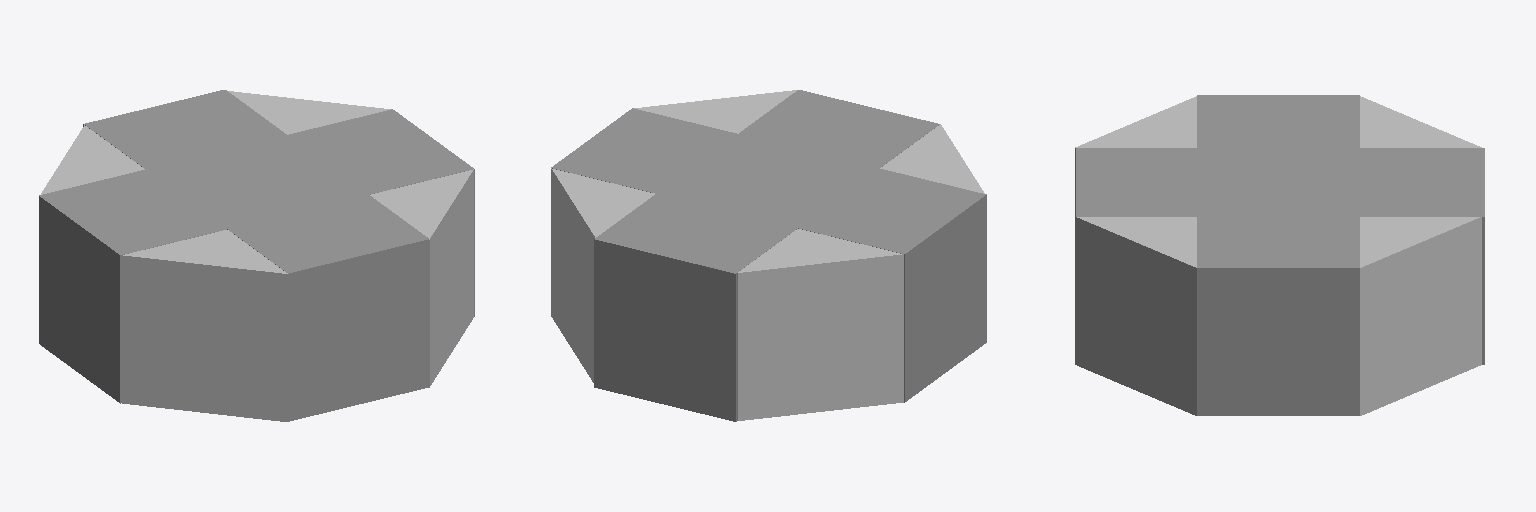
File: shiny_kup.obj
The picture shows the model from 3 angles: view 1: azimuth 30°, elevation 25°; view 2: azimuth 150°, elevation 25°; view 3: azimuth 270°, elevation 25°; orthographic projection.
Parts seen in each view (by area): view 1: Cube, Cube.003, Cube.002, Cube.004, Cube.006, Cube.001, Cube.007, Cube.005; view 2: Cube.006, Cube.007, Cube.002, Cube.004, Cube, Cube.005, Cube.003, Cube.001; view 3: Cube.004, Cube.005, Cube.001, Cube.006, Cube, Cube.002, Cube.003, Cube.007.
Boxes of the visible parts, box(x1,y1,x2,y2) form: Cube: box(166, 149, 428, 421); Cube.003: box(122, 230, 287, 421); Cube.002: box(39, 144, 332, 403); Cube.004: box(181, 109, 474, 316); Cube.006: box(83, 90, 344, 213); Cube.001: box(370, 169, 473, 387); Cube.007: box(41, 125, 144, 194); Cube.005: box(228, 91, 390, 134); Cube.006: box(594, 169, 857, 421); Cube.007: box(737, 229, 903, 420); Cube.002: box(692, 147, 986, 402); Cube.004: box(551, 108, 843, 219); Cube: box(707, 90, 939, 211); Cube.005: box(551, 168, 654, 382); Cube.003: box(880, 124, 984, 193); Cube.001: box(634, 90, 796, 133); Cube.004: box(1197, 164, 1359, 415); Cube.005: box(1360, 217, 1481, 415); Cube.001: box(1075, 217, 1196, 415); Cube.006: box(1239, 148, 1484, 364); Cube: box(1076, 148, 1320, 216); Cube.002: box(1197, 95, 1359, 197); Cube.003: box(1075, 96, 1196, 216); Cube.007: box(1360, 96, 1481, 147).
Bounding box in the file's own units: 5 × 2 × 5.01.